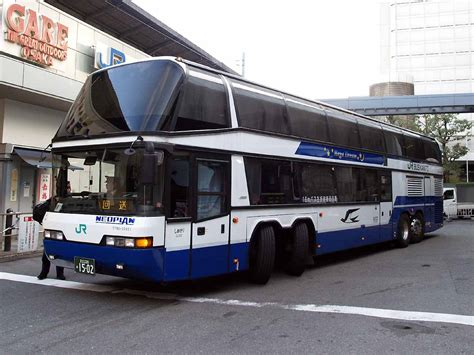bus: (42, 65, 442, 288)
